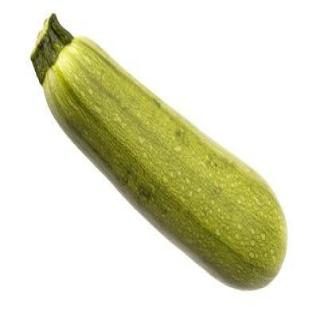Zucchini: (32, 15, 286, 289)
